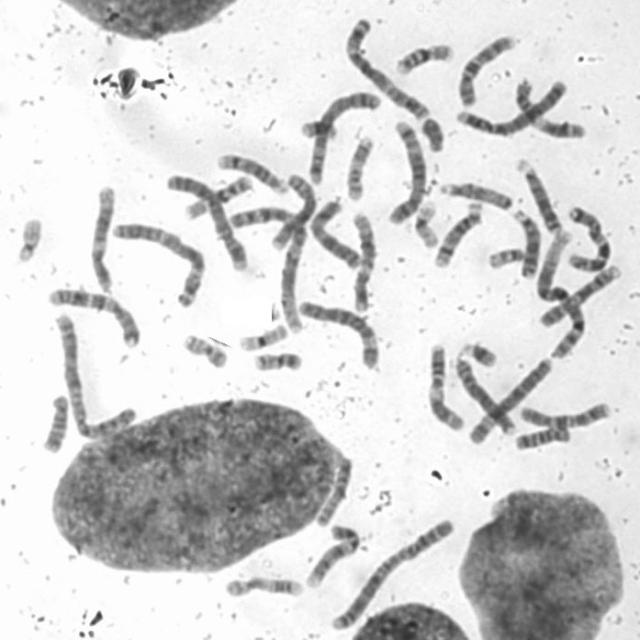A1: (224, 204, 311, 337), (536, 228, 590, 361)
A2: (326, 516, 461, 634), (50, 312, 148, 442)
A3: (339, 17, 433, 123), (109, 219, 208, 311)
B4: (166, 169, 254, 276), (455, 77, 570, 136)
B5: (307, 87, 382, 187), (384, 116, 429, 226)
C10: (452, 30, 518, 110), (512, 402, 612, 431)
C11: (512, 77, 588, 142), (422, 340, 466, 433)
C12: (88, 182, 118, 298), (348, 213, 378, 314)
C6: (462, 355, 556, 447), (297, 297, 379, 370)
C7: (45, 286, 143, 351), (559, 202, 613, 278)
C8: (454, 353, 518, 438), (271, 169, 317, 250)
C9: (534, 262, 622, 330), (302, 524, 362, 588)
D13: (513, 157, 566, 236), (508, 205, 542, 281)
D14: (432, 201, 485, 270), (214, 150, 290, 196)
D15: (430, 176, 514, 213), (313, 455, 355, 529)
E16: (182, 173, 258, 221), (392, 41, 456, 78)
E17: (220, 574, 310, 603), (342, 132, 377, 204)
E18: (40, 392, 71, 454), (511, 423, 571, 451)
F19: (236, 324, 292, 355), (411, 199, 440, 250)
F20: (181, 333, 232, 370), (252, 350, 305, 372)
G21: (461, 339, 499, 369), (299, 119, 339, 142)
G22: (11, 216, 43, 265), (485, 246, 527, 272)
X: (308, 196, 364, 272)
Y: (418, 118, 447, 152)
